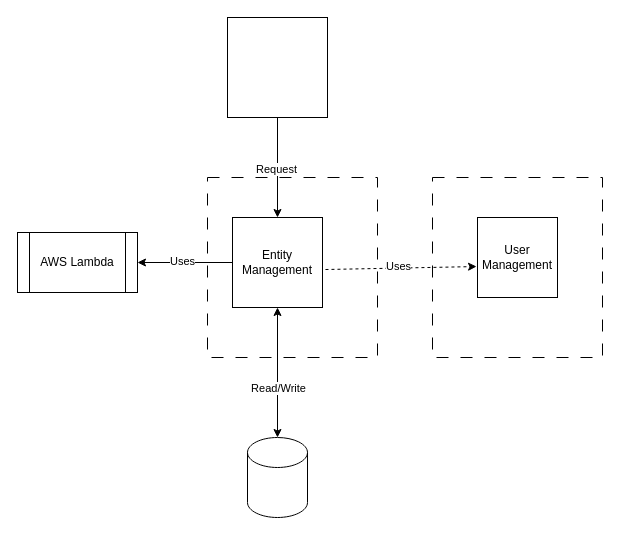
Some shapes in this 620 by 535 pixel diagram are drawn without their labels. Each missing label, with the centre of its shape:
"Event DB (PSQL)" belongs at pixel 277 477.
"Webapp" belongs at pixel 277 67.
